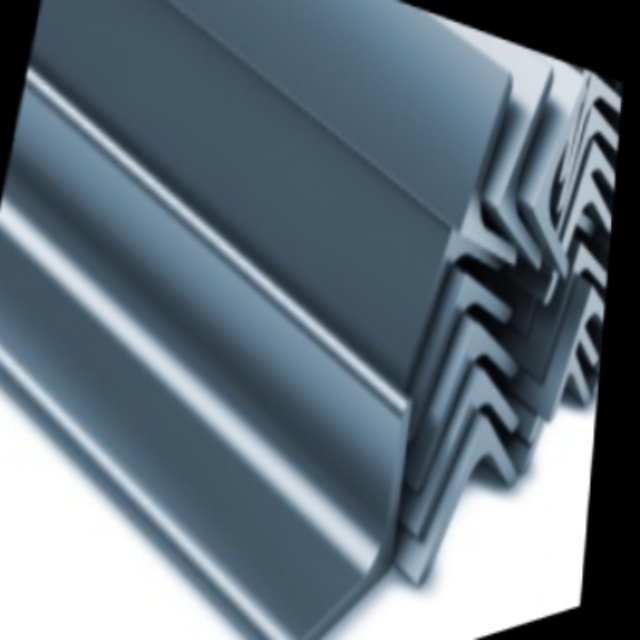Angle: (292, 393, 408, 640), (423, 420, 518, 599), (420, 325, 513, 503), (423, 381, 517, 551), (414, 279, 508, 448), (410, 238, 493, 402), (464, 79, 532, 262), (499, 65, 556, 263), (532, 78, 582, 268), (547, 175, 613, 313), (544, 246, 607, 382), (557, 113, 619, 249), (562, 78, 622, 213), (553, 288, 605, 420)
